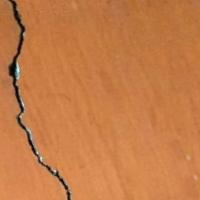crack: (3, 0, 74, 199)
